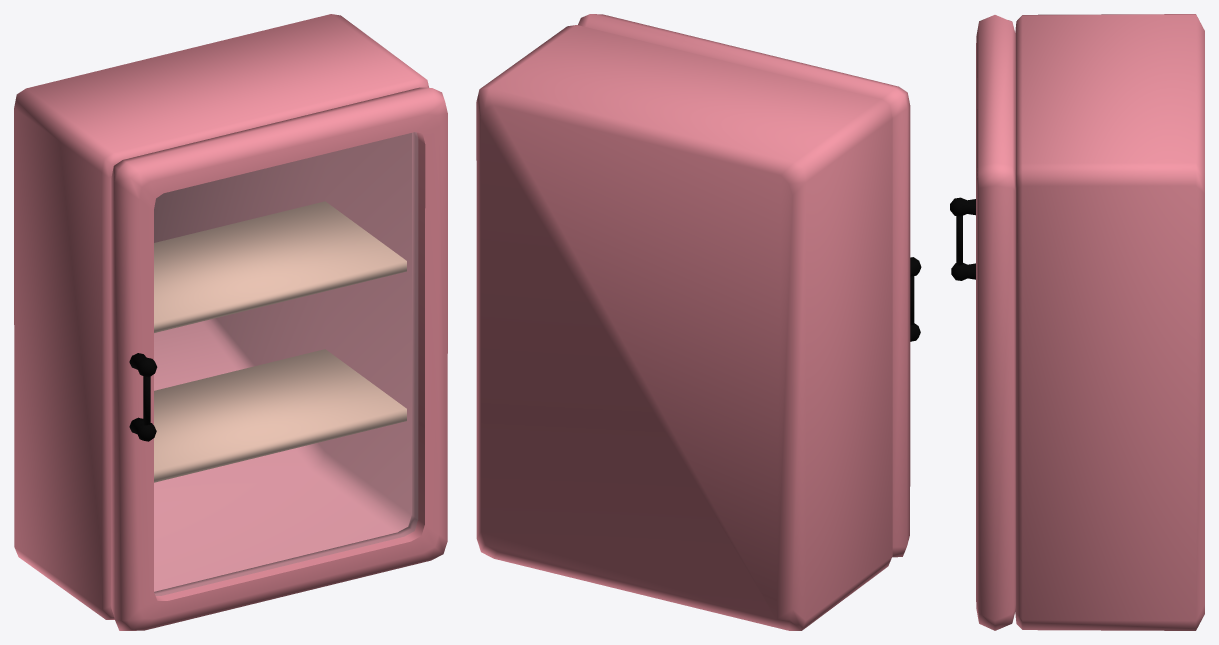
Rendered from Bakery_Fridge_01.fbx.
3 views of the same model, side by side, from view 1: azimuth 30°, elevation 25°; view 2: azimuth 150°, elevation 25°; view 3: azimuth 270°, elevation 25° (orthographic).
Parts seen in each view (by area): view 1: Bakery_Fridge_01; view 2: Bakery_Fridge_01; view 3: Bakery_Fridge_01.
Boxes of the visible parts, left/top/right/bottom form: Bakery_Fridge_01: left=14, top=14, right=447, bottom=630; Bakery_Fridge_01: left=476, top=14, right=921, bottom=630; Bakery_Fridge_01: left=950, top=14, right=1204, bottom=630.
Bounding box in the file's own units: 168 × 228 × 113.
